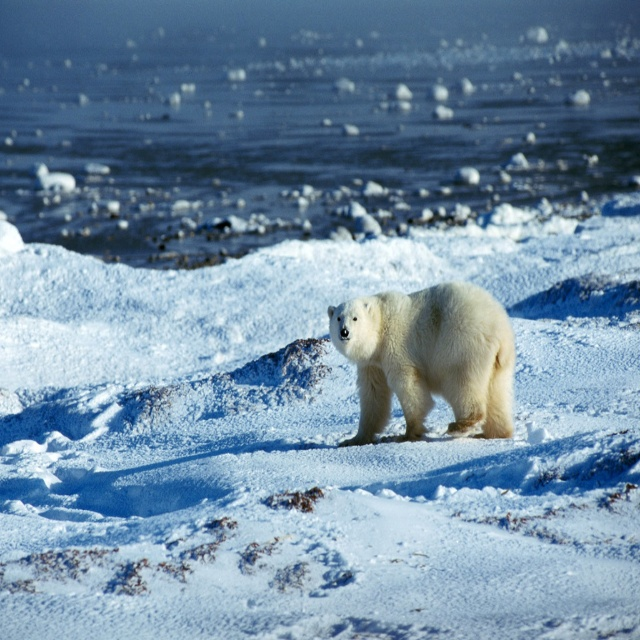Bear: (326, 279, 516, 446)
